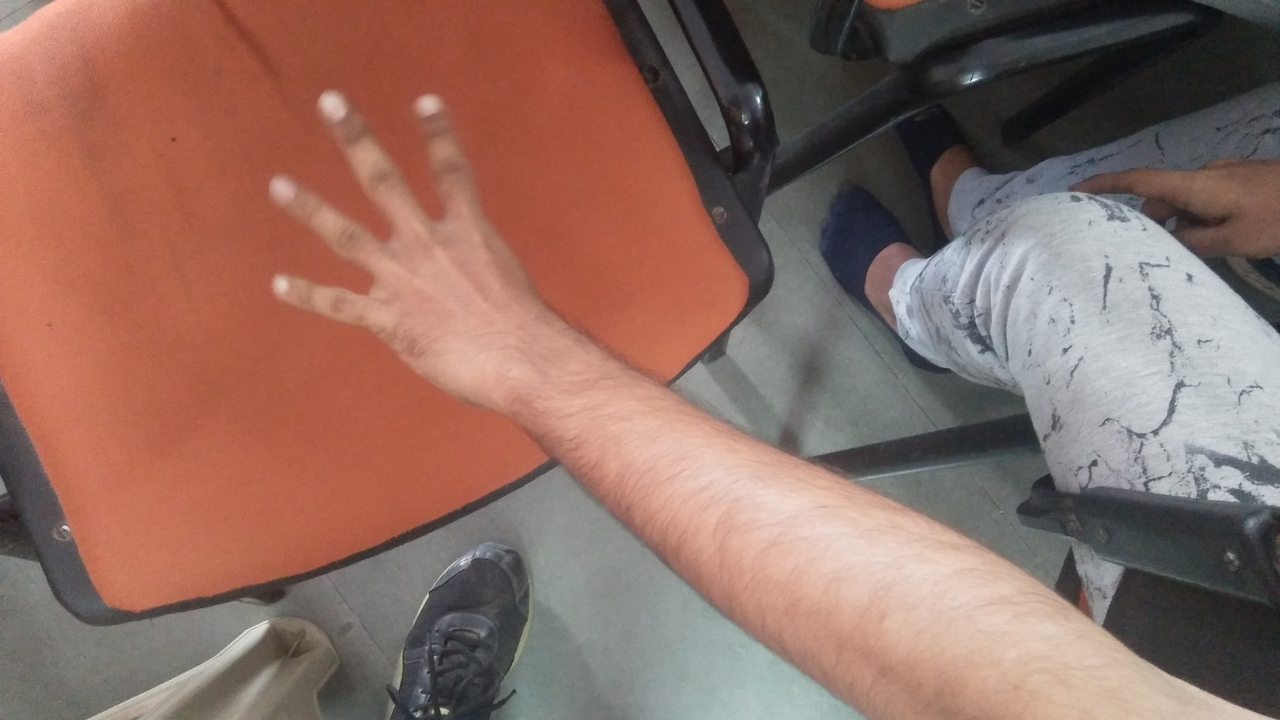fingertip: (300, 80, 366, 126), (250, 160, 312, 204), (255, 265, 314, 307), (400, 86, 460, 126)
